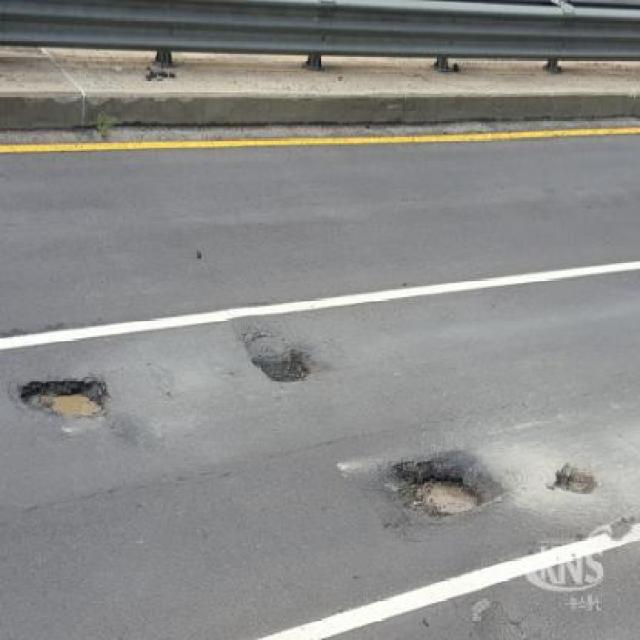Pothole: (392, 450, 494, 516), (16, 370, 116, 427), (238, 328, 314, 392), (548, 460, 603, 508)
